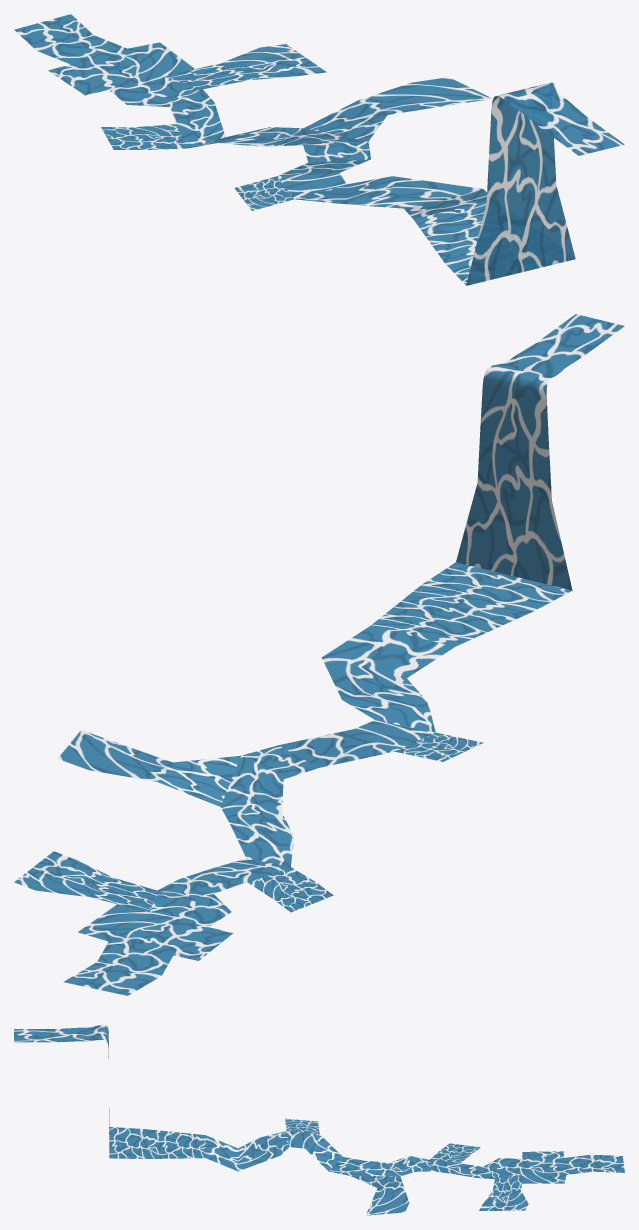
Rendered from RíoPorPartes8.fbx.
The picture shows the model from 3 angles, top to bottom: view 1: azimuth 30°, elevation 25°; view 2: azimuth 150°, elevation 25°; view 3: azimuth 270°, elevation 25°; orthographic projection. The views are drawn at different scales.
Parts seen in each view (by area): view 1: Río, Río.012, Río.003, Río.002, Río.009, Río.006, Río.001, Río.008, Río.005, Río.007, Río.004; view 2: Río, Río.012, Río.001, Río.002, Río.006, Río.003, Río.009, Río.005, Río.008, Río.007, Río.004; view 3: Río.012, Río.001, Río.002, Río.006, Río, Río.003, Río.009, Río.005, Río.008, Río.007, Río.004.
Boxes of the visible parts, x1,y1,x2,y2 form: Río: (466,82,624,285); Río.012: (14,14,201,104); Río.003: (304,77,492,141); Río.002: (295,176,486,219); Río.009: (164,44,326,89); Río.006: (190,127,370,162); Río.001: (413,201,486,285); Río.008: (127,89,225,148); Río.005: (277,159,370,199); Río.007: (101,124,187,149); Río.004: (234,176,293,210); Río: (456,314,624,590); Río.012: (63,890,233,995); Río.001: (370,562,571,646); Río.002: (321,626,454,732); Río.006: (221,745,318,866); Río.003: (57,730,240,806); Río.009: (14,851,156,912); Río.005: (278,720,435,767); Río.008: (157,858,290,911); Río.007: (248,867,333,912); Río.004: (395,732,483,761); Río.012: (495,1151,624,1183); Río.001: (109,1127,205,1158); Río.002: (205,1131,289,1171); Río.006: (329,1155,431,1176); Río: (14,1024,109,1134); Río.003: (351,1176,409,1215); Río.009: (479,1174,528,1210); Río.005: (286,1131,342,1171); Río.008: (429,1158,498,1179); Río.007: (430,1143,480,1162); Río.004: (285,1118,319,1133).
Size of the model in its own units: 4189 by 3186 by 12128.
